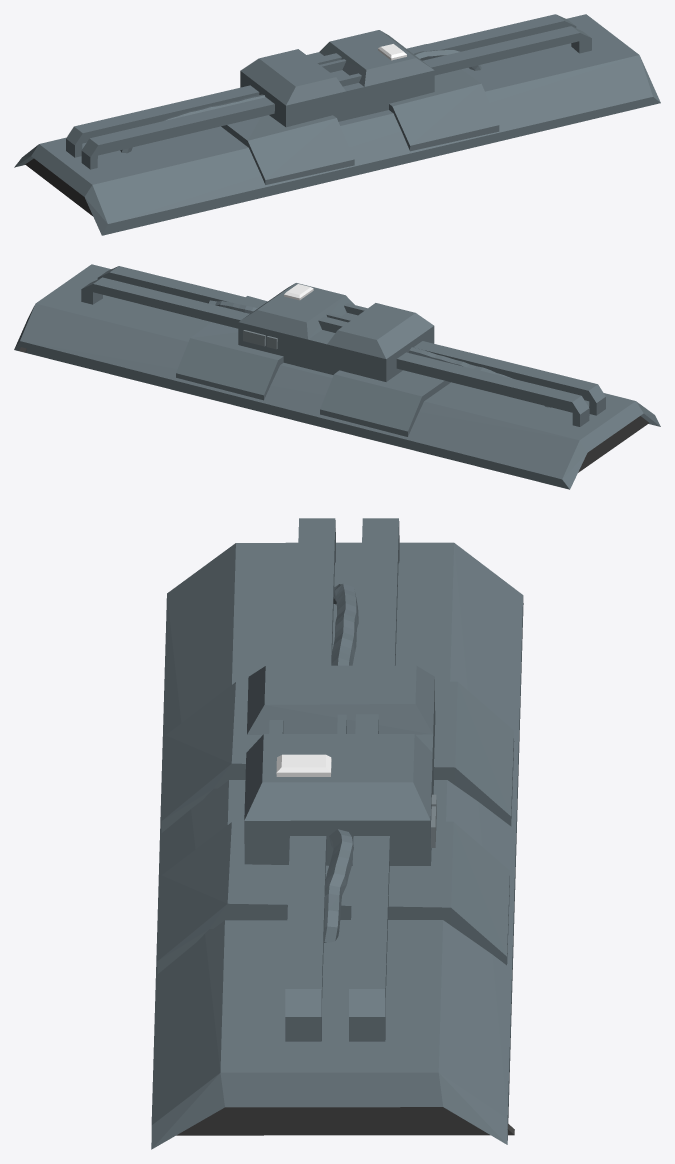
The model's file is something.glb.
The picture shows the model from 3 angles, top to bottom: view 1: azimuth 30°, elevation 25°; view 2: azimuth 150°, elevation 25°; view 3: azimuth 270°, elevation 25°; orthographic projection. The views are drawn at different scales.
Parts seen in each view (by area): view 1: something; view 2: something; view 3: something.
Part boxes in pixels (x1=…): something: x1=14, y1=14, x2=660, y2=235; something: x1=14, y1=264, x2=660, y2=489; something: x1=151, y1=518, x2=523, y2=1149.
Size of the model in its own units: 1.65 by 0.232 by 0.4756.
